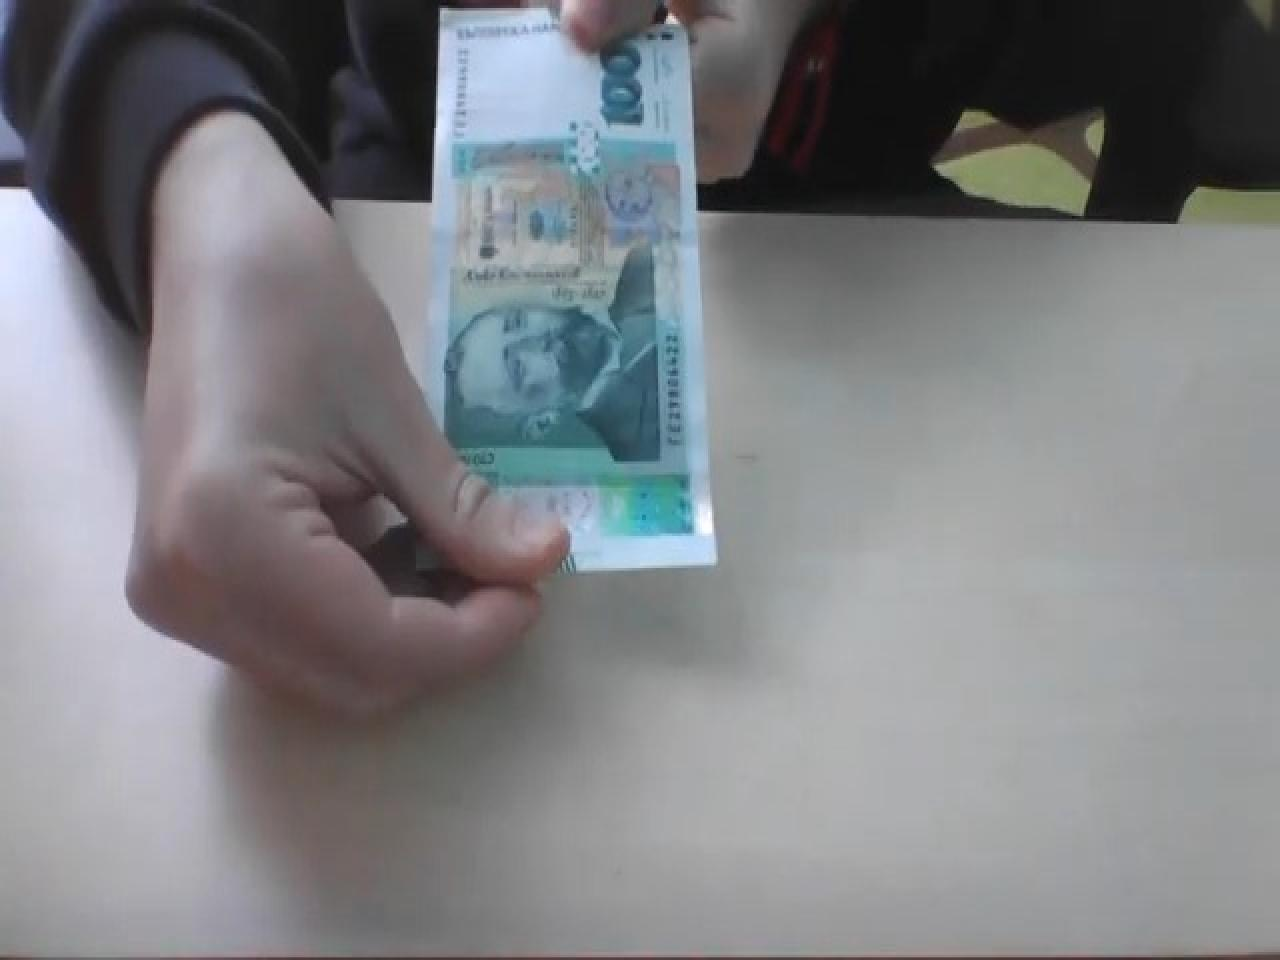100leva: (410, 5, 718, 584)
